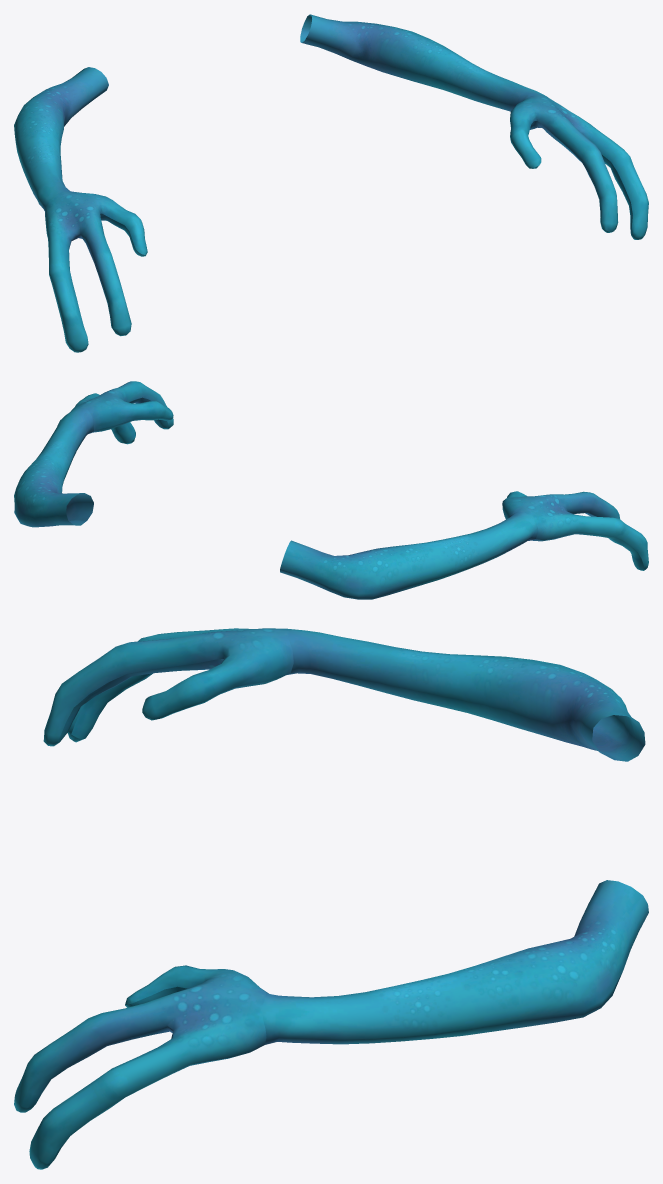
File: hand.dae
3 views of the same model, one above another, from view 1: azimuth 30°, elevation 25°; view 2: azimuth 150°, elevation 25°; view 3: azimuth 270°, elevation 25° (orthographic). The views are drawn at different scales.
Parts seen in each view (by area): view 1: node_id41 (×2); view 2: node_id41 (×2); view 3: node_id41 (×2).
Part boxes in pixels (x1=…): node_id41 (×2): x1=14, y1=14, x2=648, y2=352; node_id41 (×2): x1=14, y1=381, x2=648, y2=599; node_id41 (×2): x1=14, y1=628, x2=648, y2=1169.
Bounding box in the file's own units: 81.28 × 16.48 × 50.79.
